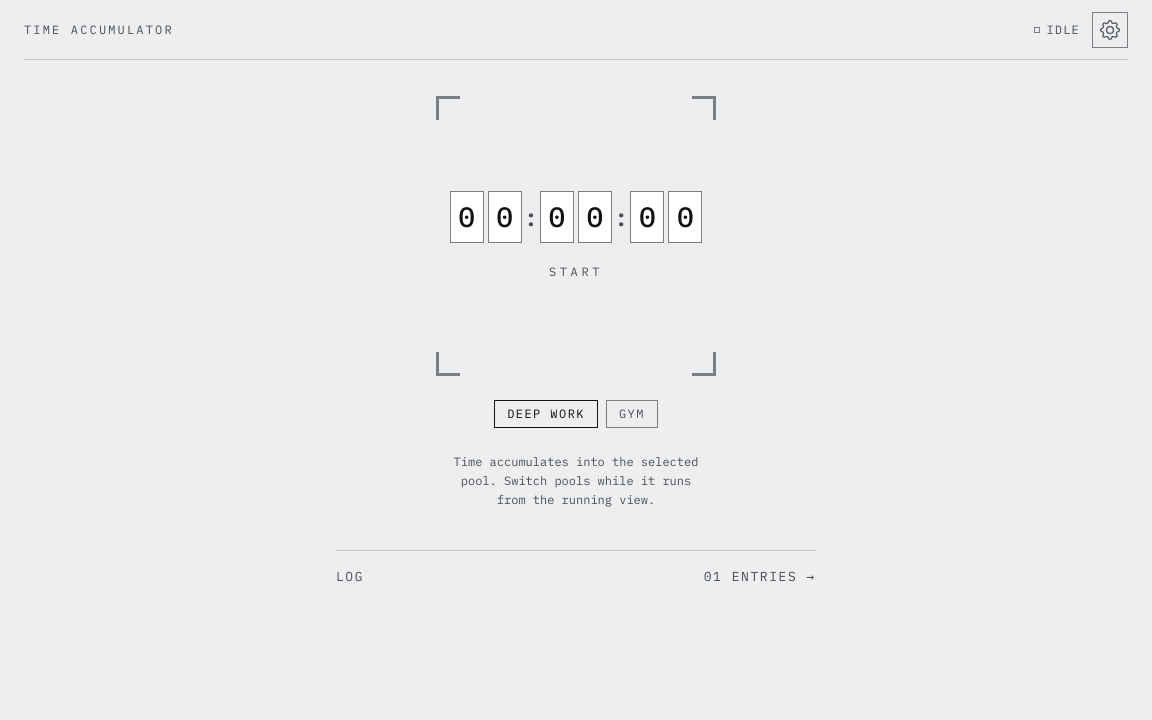
routes, data views and header slug › shows IDLE, then RUNNING plus the running pool slug, in the header
What coordinates should you click on to do the following:
click the button with class "dial"
I would click on:
 (576, 236)
Its box is [336,96,816,376].
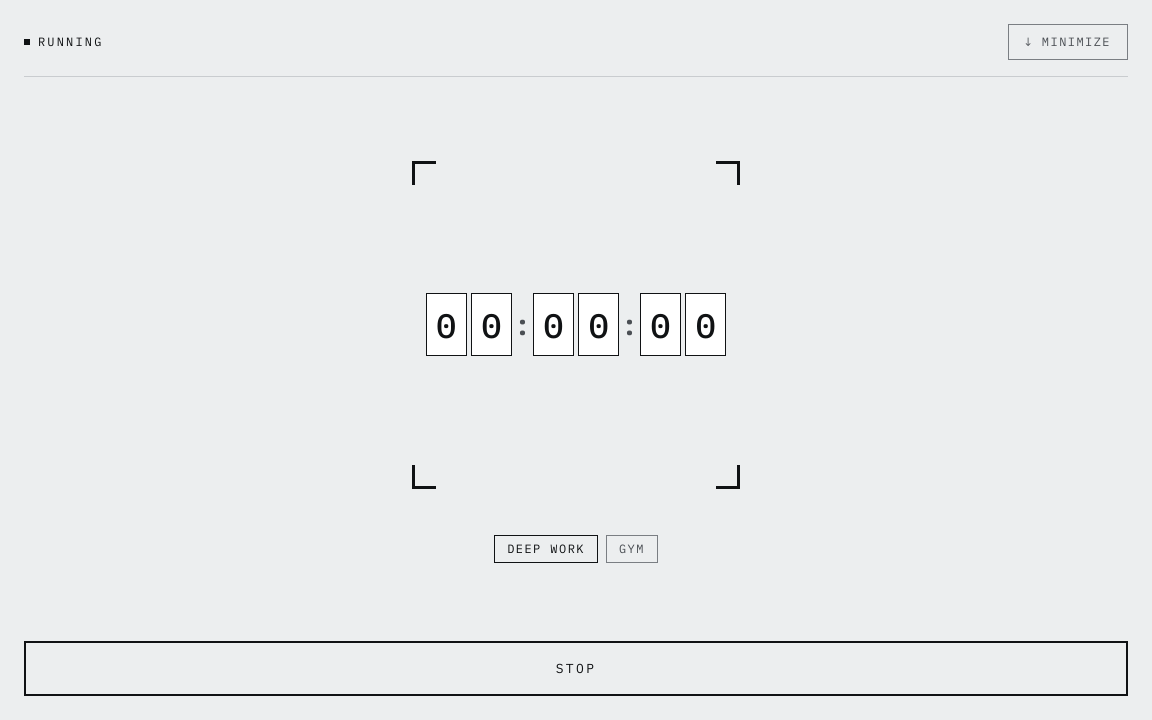
Now the text with class "app-header__slug" reads "· deep-work", box [996,21,1080,39]
